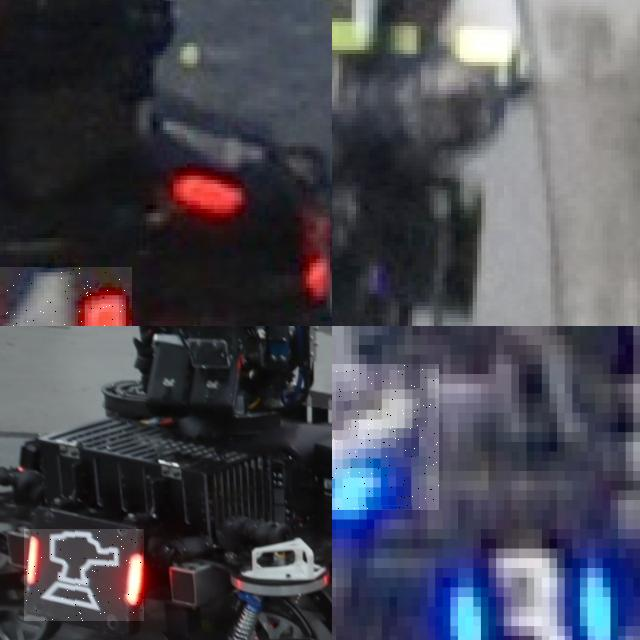B3: (431, 538, 621, 640), (332, 364, 439, 509)
R4: (0, 267, 132, 326)
Rs: (24, 529, 144, 621)
